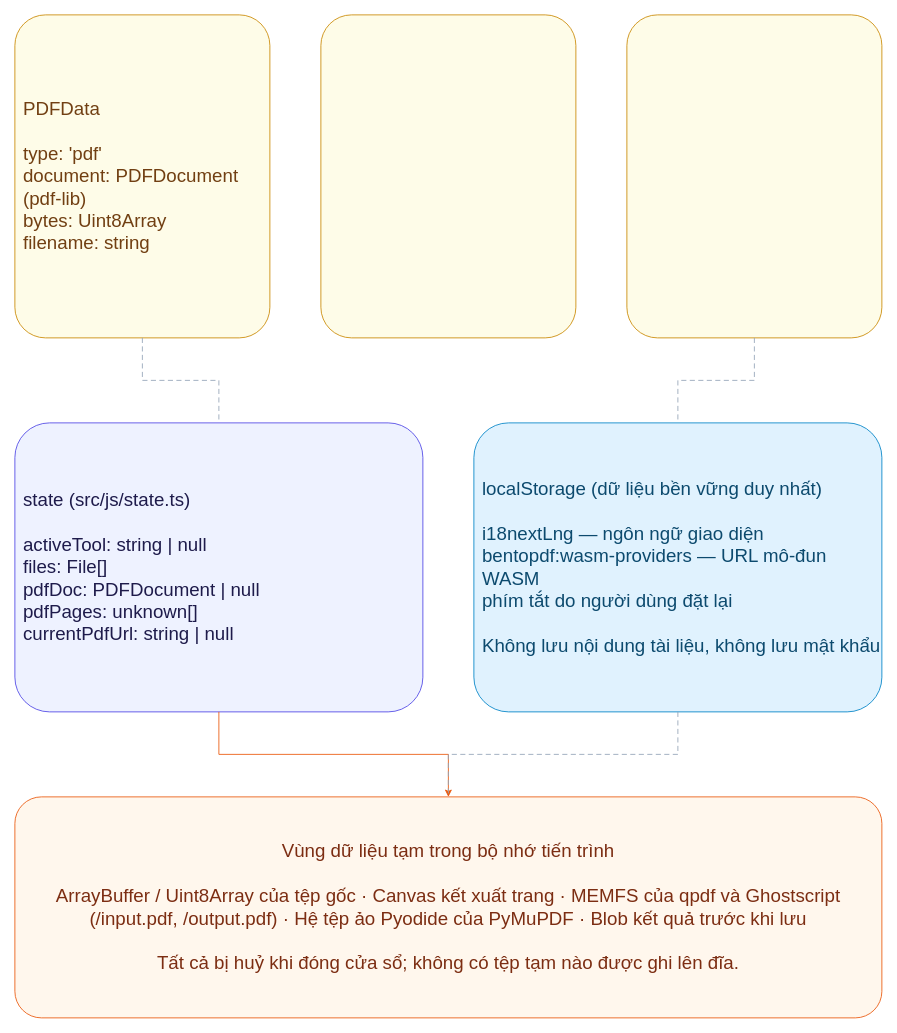
The diagram is 897 pixels wide and 1033 high, and some of its shapes have lost their labels. Each missing label, with the centre of its shape:
ImageData type: 'image' blob: Blob filename: string: the point at 448,176
MultiPDFData type: 'multi-pdf' items: PDFData[]: the point at 754,176
